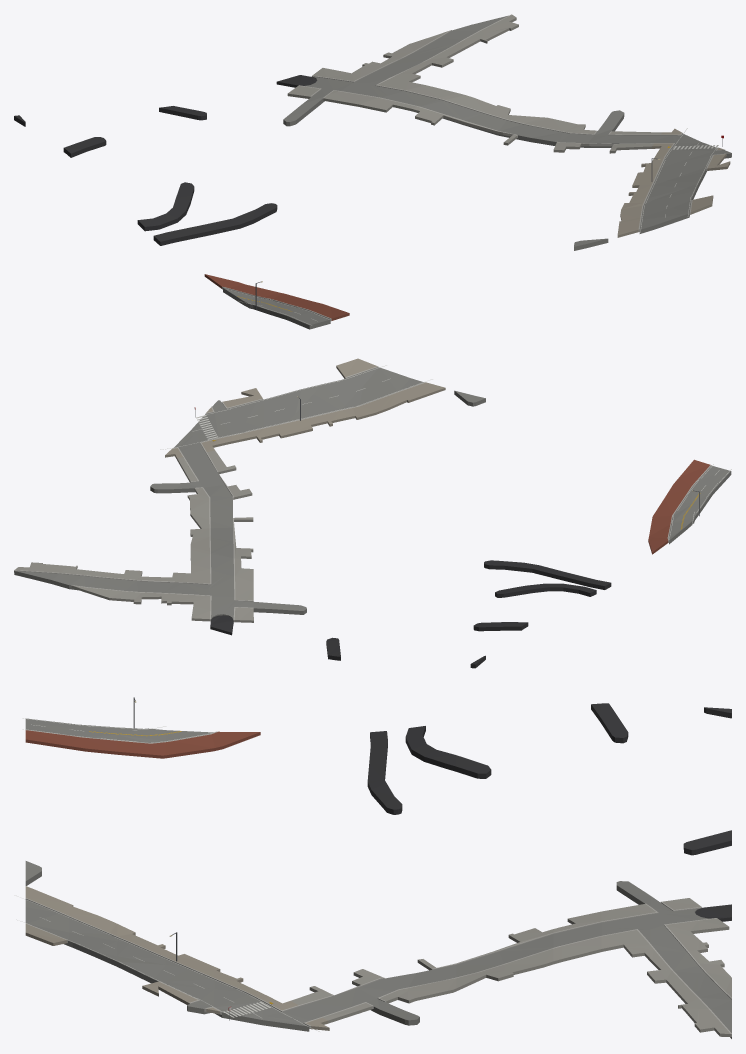
3 views of the same model, one above another, from view 1: azimuth 30°, elevation 25°; view 2: azimuth 150°, elevation 25°; view 3: azimuth 270°, elevation 25° (orthographic). The views are drawn at different scales.
Size of the model in its own units: 151 by 15.19 by 148.
